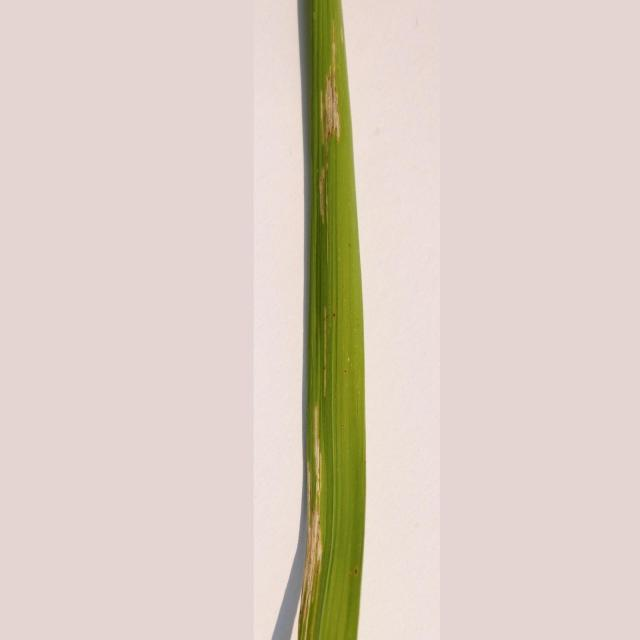leaf blight: (304, 16, 358, 226), (301, 395, 345, 631)
